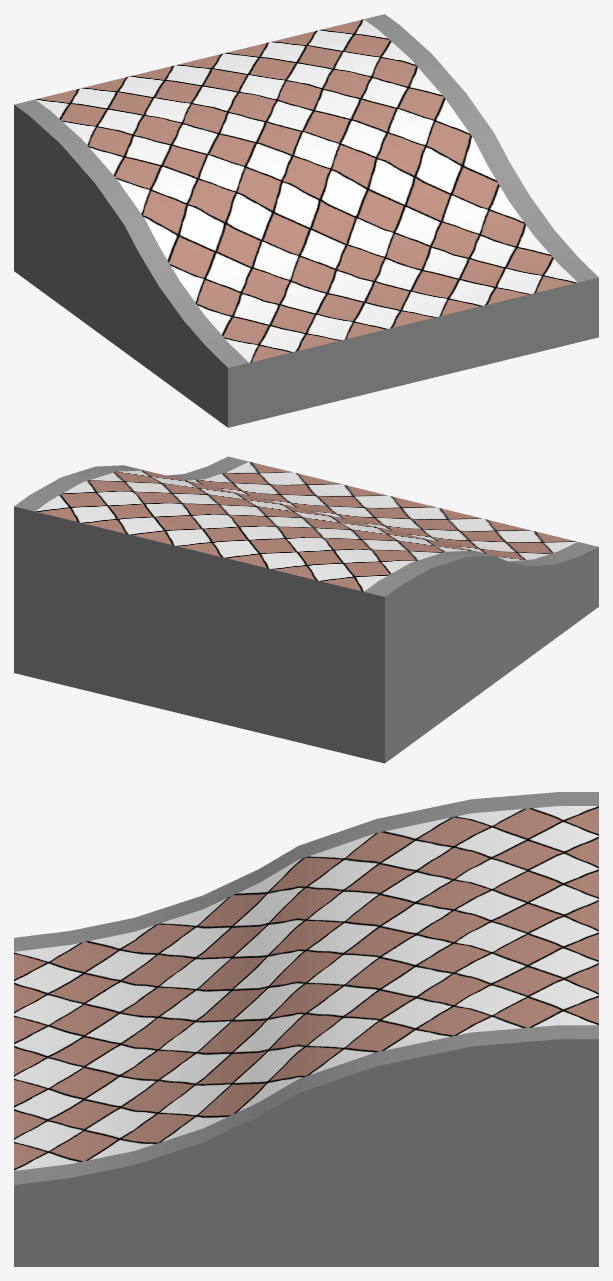
Rendered from slopechunk.fbx.
3 renders of one model, top to bottom at view 1: azimuth 30°, elevation 25°; view 2: azimuth 150°, elevation 25°; view 3: azimuth 270°, elevation 25°, orthographic. The views are drawn at different scales.
Parts seen in each view (by area): view 1: slopechunk; view 2: slopechunk; view 3: slopechunk.
Boxes of the visible parts, box(x1,y1,x2,y2) form: slopechunk: box(14, 14, 598, 427); slopechunk: box(14, 456, 598, 763); slopechunk: box(14, 792, 598, 1266).
Bounding box in the file's own units: 64 × 64 × 27.46.
